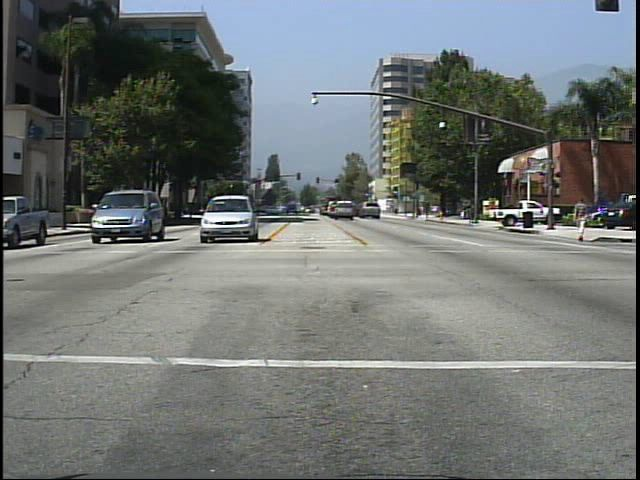person: (571, 193, 595, 246)
